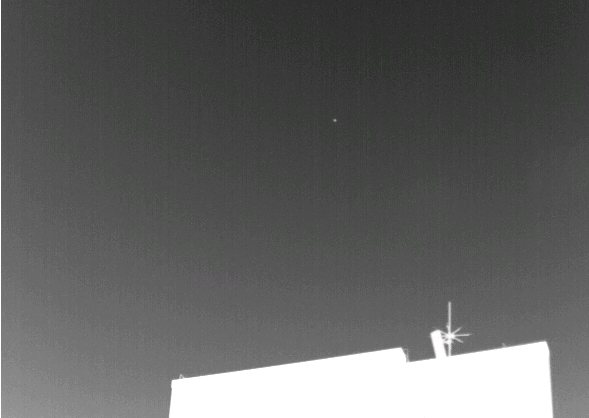dim target: (332, 118, 338, 122)
